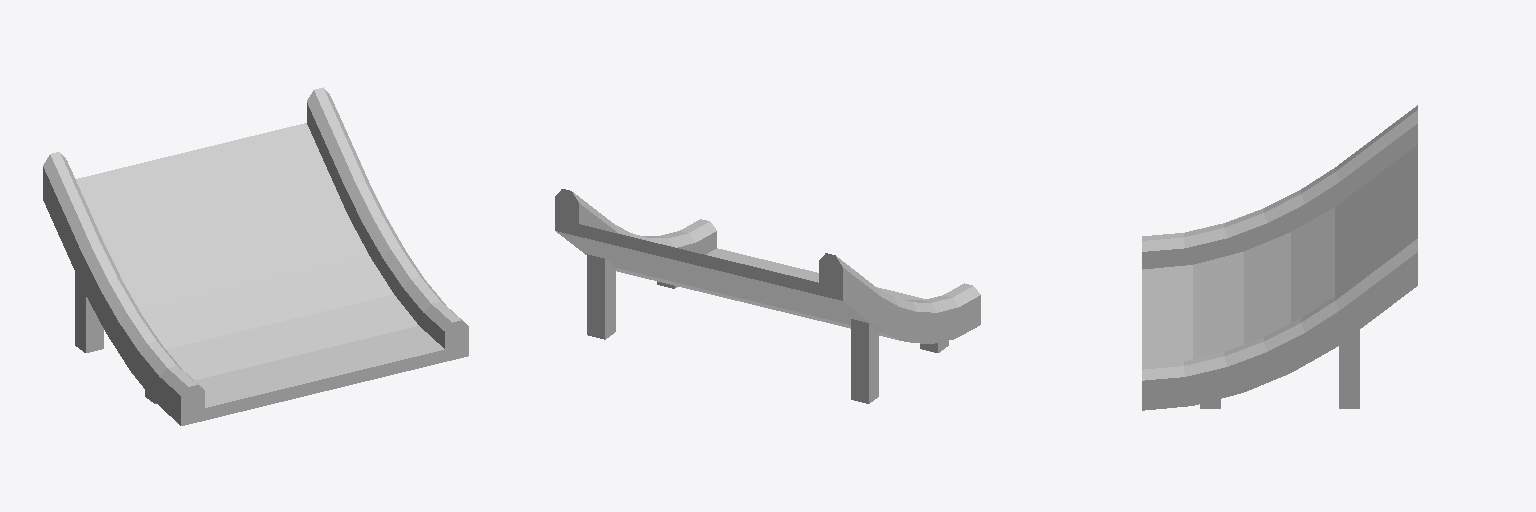
Rendered from jump1.obj.
3 renders of one model, left to right at view 1: azimuth 30°, elevation 25°; view 2: azimuth 150°, elevation 25°; view 3: azimuth 270°, elevation 25°, orthographic.
Parts seen in each view (by area): view 1: object4, object7, object6, object3; view 2: object4, object7, object6, object1, object3; view 3: object4, object6, object7, object1.
Boxes of the visible parts, x1=… form: object4: x1=76, y1=123, x2=444, y2=420; object7: x1=43, y1=152, x2=204, y2=425; object6: x1=307, y1=87, x2=468, y2=361; object3: x1=75, y1=273, x2=103, y2=352; object4: x1=579, y1=224, x2=925, y2=335; object7: x1=819, y1=253, x2=980, y2=343; object6: x1=555, y1=189, x2=716, y2=277; object1: x1=587, y1=254, x2=615, y2=339; object3: x1=851, y1=319, x2=878, y2=403; object4: x1=1142, y1=145, x2=1417, y2=364; object6: x1=1142, y1=234, x2=1417, y2=410; object7: x1=1142, y1=105, x2=1417, y2=269; object1: x1=1339, y1=330, x2=1359, y2=408.
Size of the model in its own units: 1.2 by 0.675 by 1.